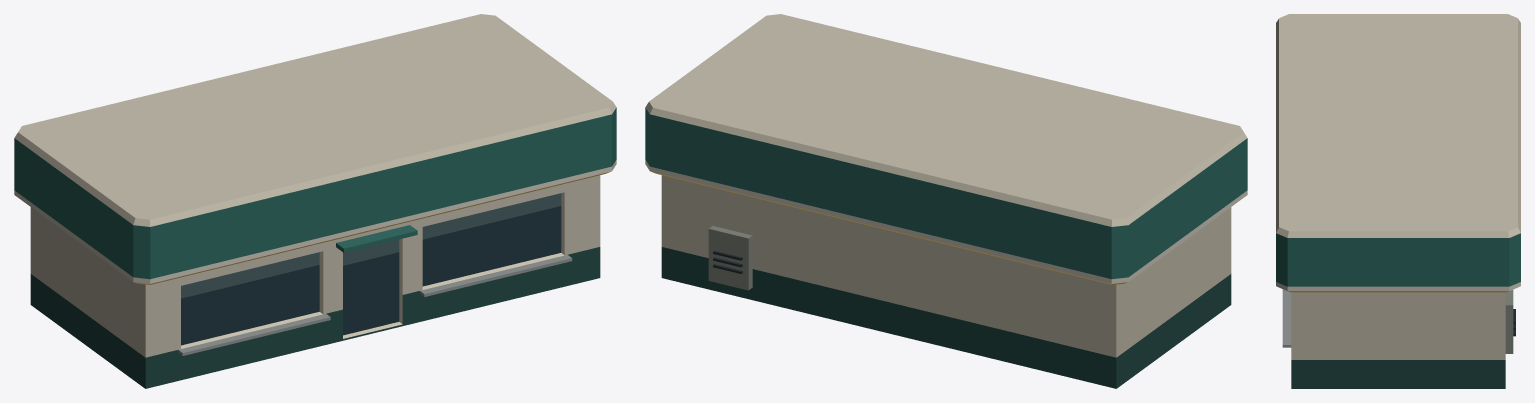
The model's file is gas-station.glb.
3 views of the same model, side by side, from view 1: azimuth 30°, elevation 25°; view 2: azimuth 150°, elevation 25°; view 3: azimuth 270°, elevation 25° (orthographic). The views are drawn at different scales.
Visible parts, largest first — view 1: Service_gas_roof, Service_gas_kiosk; view 2: Service_gas_roof, Service_gas_kiosk; view 3: Service_gas_roof, Service_gas_kiosk.
Boxes of the visible parts, x1,y1,x2,y2 form: Service_gas_roof: (14, 14, 616, 284); Service_gas_kiosk: (30, 175, 600, 388); Service_gas_roof: (645, 14, 1247, 284); Service_gas_kiosk: (661, 175, 1231, 388); Service_gas_roof: (1276, 14, 1520, 292); Service_gas_kiosk: (1282, 289, 1515, 388).
Bounding box in the file's own units: 34 × 11.74 × 16.
